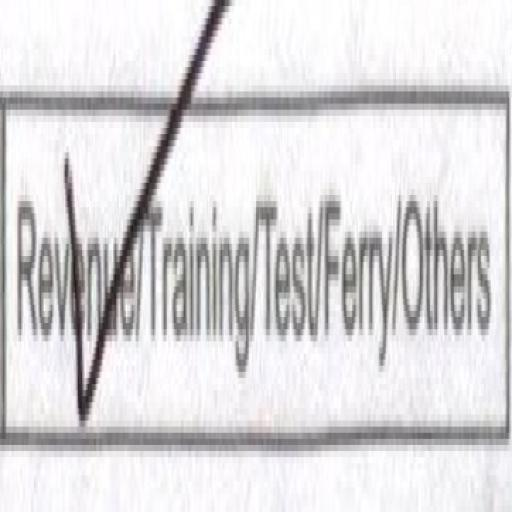check: (10, 0, 144, 512)
